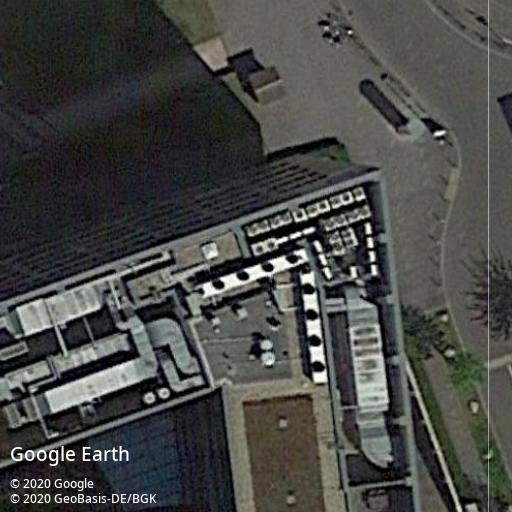Chiller: (204, 247, 310, 301), (299, 270, 328, 384), (250, 237, 279, 257), (329, 230, 348, 258), (329, 190, 354, 210), (306, 198, 330, 218), (347, 204, 371, 224), (245, 218, 269, 236), (323, 213, 347, 231), (269, 212, 292, 229), (341, 228, 359, 249), (353, 185, 367, 201), (293, 207, 307, 222)
